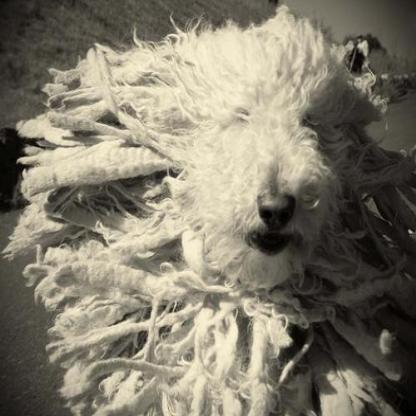komondor: (0, 0, 414, 414)
